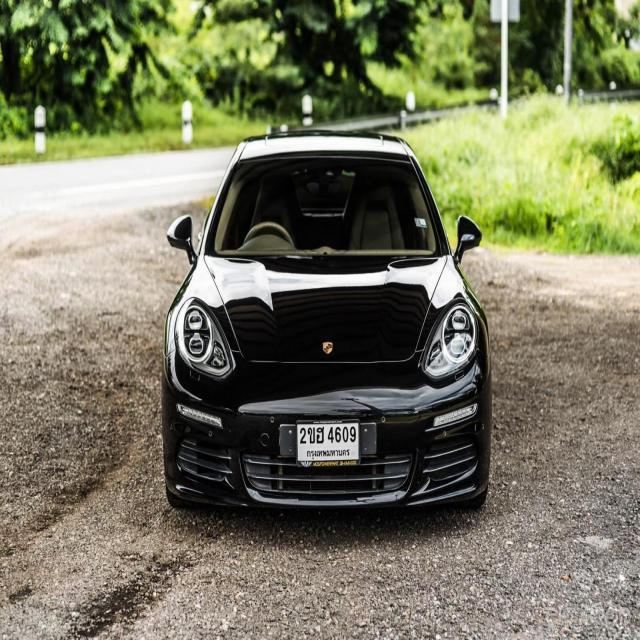license_plate: (295, 419, 360, 467)
